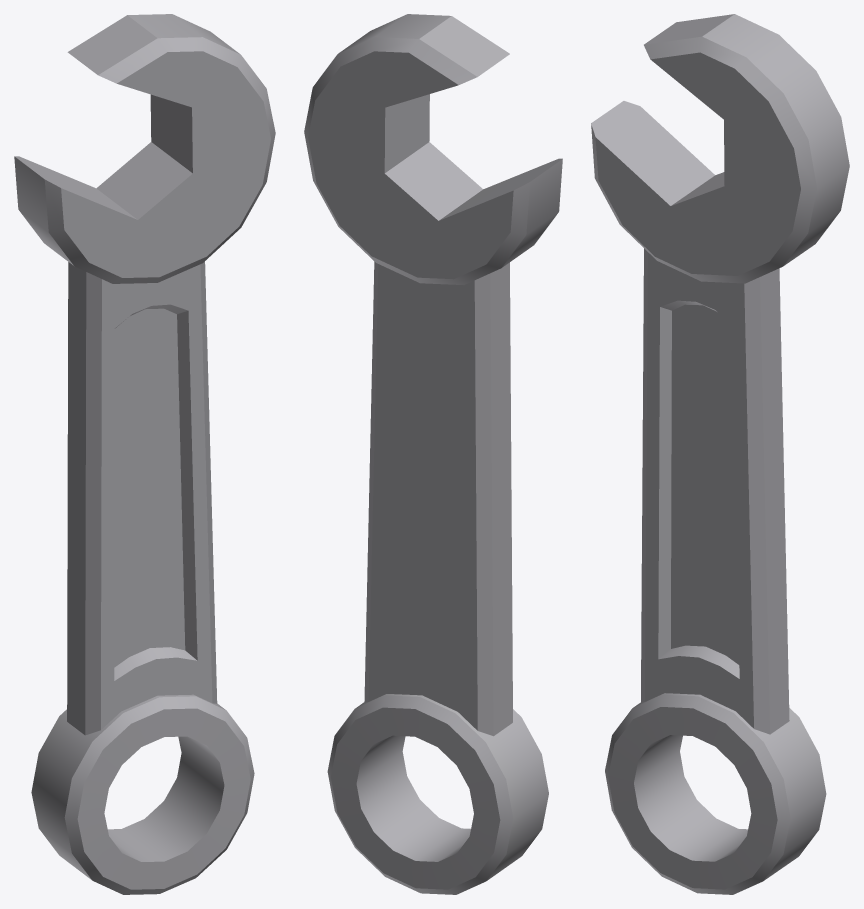
Rendered from Wrench_01.fbx.
The picture shows the model from 3 angles, left to right: view 1: azimuth 30°, elevation 25°; view 2: azimuth 150°, elevation 25°; view 3: azimuth 330°, elevation 25°; orthographic projection.
Visible parts, largest first — view 1: Wrench_01; view 2: Wrench_01; view 3: Wrench_01.
Boxes of the visible parts, x1=… form: Wrench_01: x1=14, y1=14, x2=275, y2=894; Wrench_01: x1=304, y1=14, x2=562, y2=894; Wrench_01: x1=591, y1=14, x2=849, y2=894.
Bounding box in the file's own units: 11.37 × 4.05 × 40.4.
